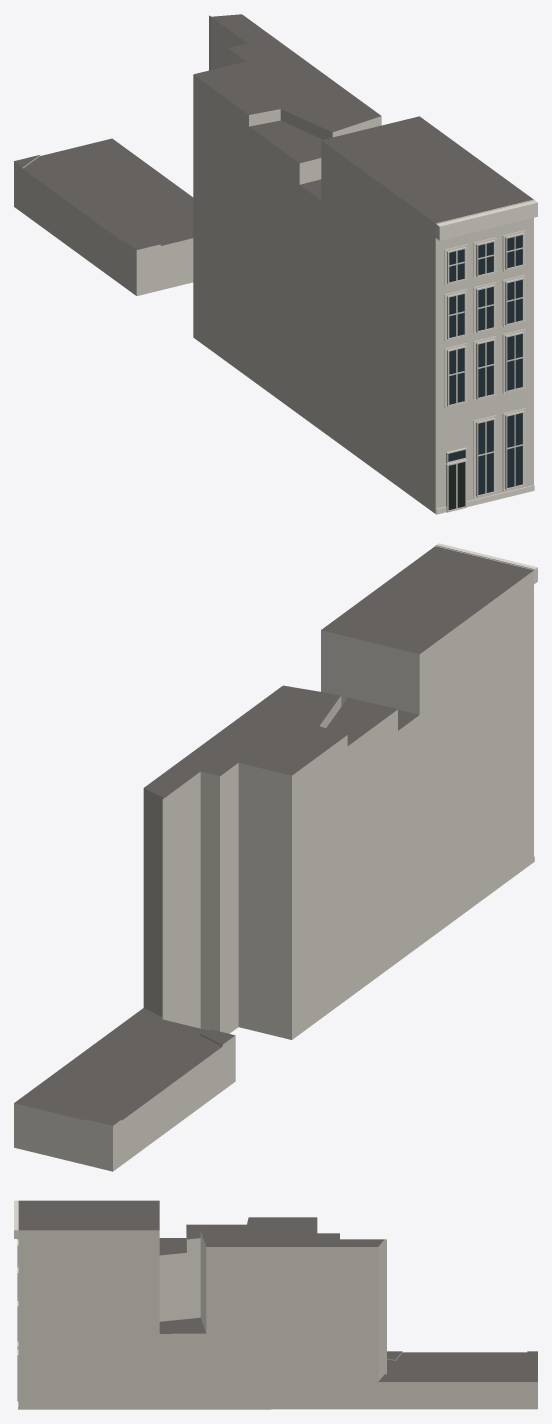
3 renders of one model, top to bottom at view 1: azimuth 30°, elevation 25°; view 2: azimuth 150°, elevation 25°; view 3: azimuth 270°, elevation 25°, orthographic. The views are drawn at different scales.
Parts seen in each view (by area): view 1: spec-0363100012169387; view 2: spec-0363100012169387; view 3: spec-0363100012169387.
Boxes of the visible parts, left/top/right/bottom form: spec-0363100012169387: left=14, top=14, right=537, bottom=514; spec-0363100012169387: left=14, top=543, right=537, bottom=1171; spec-0363100012169387: left=14, top=1200, right=537, bottom=1409.
Size of the model in its own units: 5.89 by 16.44 by 43.44.
